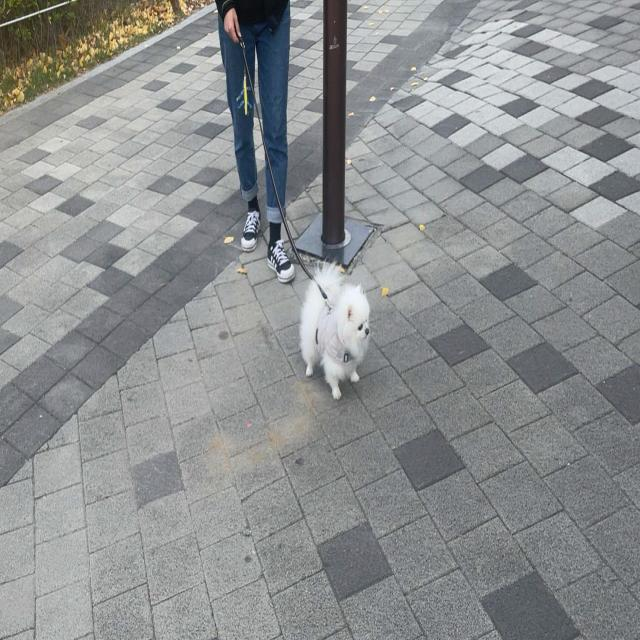Leashed_Dog: (227, 7, 371, 401)
